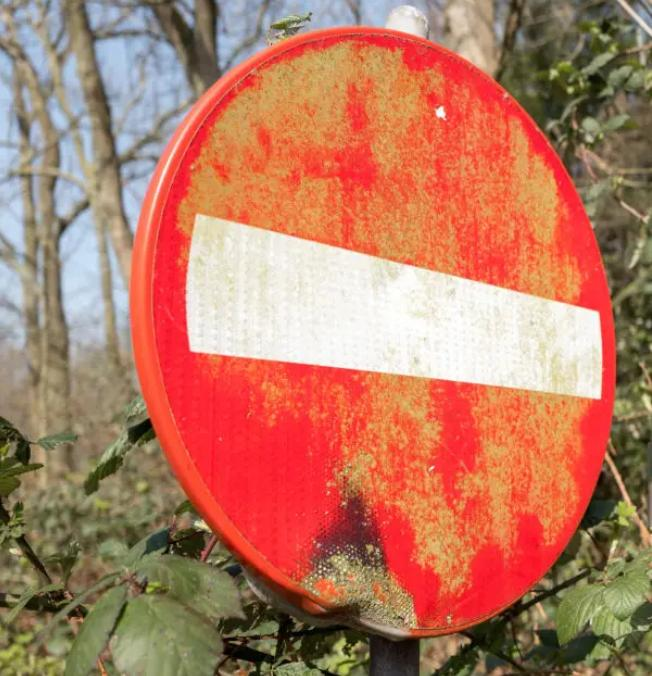obstructed_road_sign: (131, 28, 614, 637)
